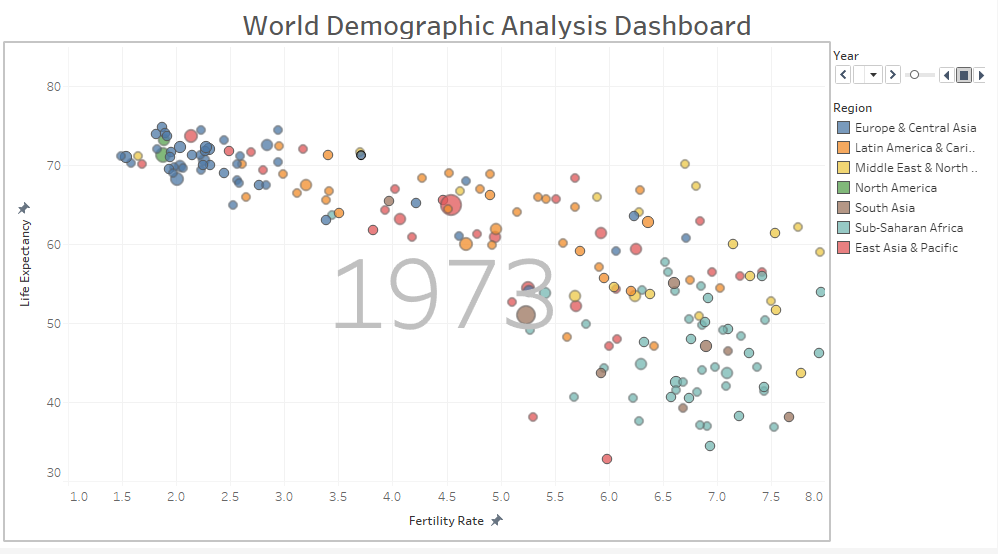

The page's visual inventory and layout, read from the dashboard file:
{"tool":"tableau","page":{"name":"World Demographic","canvas":[1000,550],"ordinal":0},"visuals":[{"type":"text","box":[8,8,984,37.5]},{"type":"worksheet","title":"Animation","mark":"Circle","rows":["Pivot Field Values"],"cols":["Pivot Field Values"],"box":[8,45.5,824,496.5]},{"type":"currpage","title":"Animation","box":[832,45.5,160,51.1]},{"type":"legend","title":"Animation","param":"[federated.0ukvv9608poiwf1cokeos0o5lnbp].[none:Region:nk]","box":[832,96.5,160,445.5]}]}

Visuals, with their boxes in screenshot pixels (x1, y1, x2, y2), scaled from the page's 1000x550 canvas onto the 998x554 screenshot:
text: select_region(8, 8, 990, 46)
"Animation" worksheet (Circle marks): select_region(8, 46, 830, 546)
"Animation" currpage: select_region(830, 46, 990, 97)
"Animation" legend: select_region(830, 97, 990, 546)
